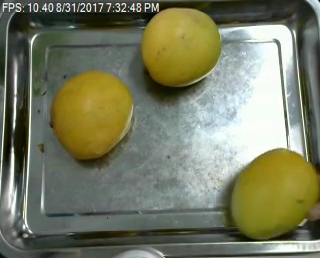Mango: (230, 149, 317, 239), (50, 71, 132, 159), (142, 7, 218, 86)
